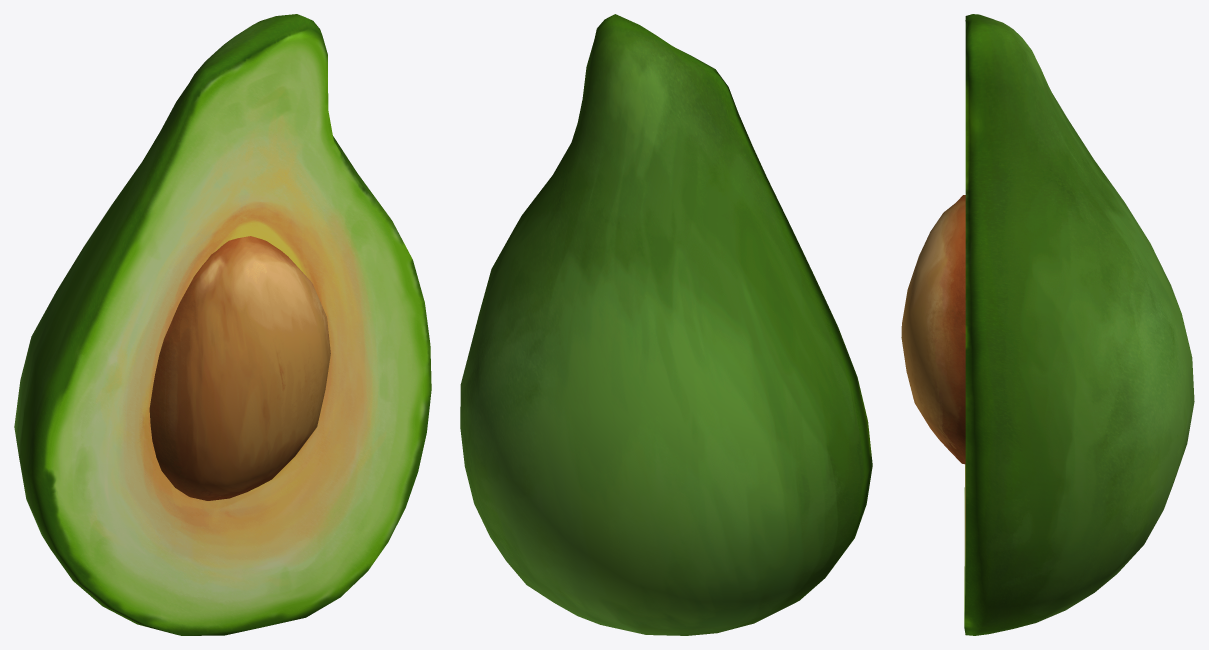
Rendered from avocado.gltf.
3 views of the same model, side by side, from view 1: azimuth 30°, elevation 25°; view 2: azimuth 150°, elevation 25°; view 3: azimuth 270°, elevation 25° (orthographic). The views are drawn at different scales.
Visible parts, largest first — view 1: Avocado; view 2: Avocado; view 3: Avocado.
Boxes of the visible parts, x1=… form: Avocado: x1=14, y1=14, x2=431, y2=635; Avocado: x1=460, y1=14, x2=872, y2=635; Avocado: x1=901, y1=14, x2=1194, y2=635.
Size of the model in its own units: 0.0426 by 0.0629 by 0.0276.
Materials: 1 (1 with a texture image).
